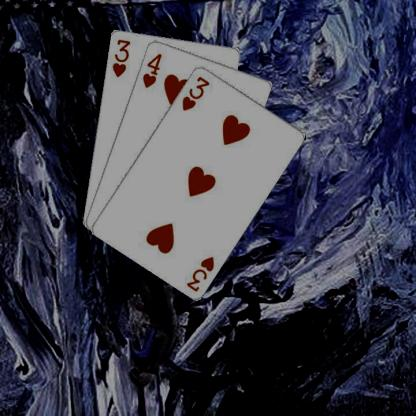3H: (184, 253, 216, 292), (179, 74, 211, 112), (110, 36, 132, 78)
4H: (140, 50, 163, 89)
